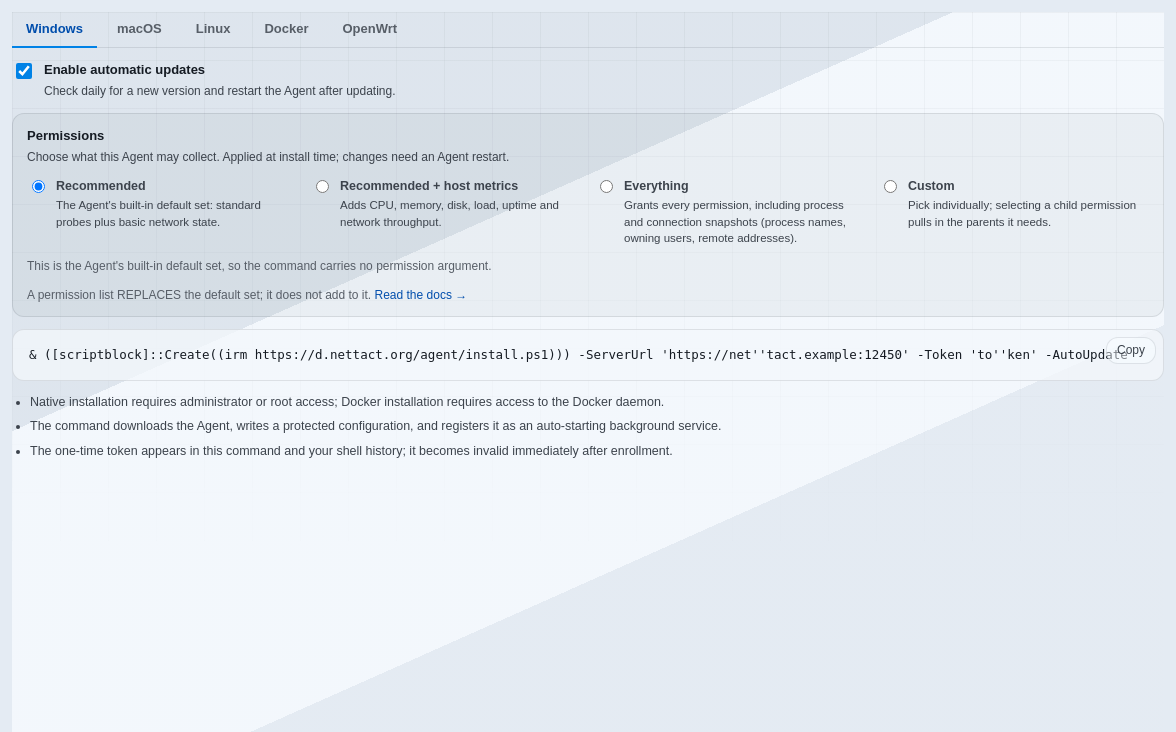
Test case: EnrollExamples permission picker › flags permissions the selected platform cannot run
The width and height of the screenshot is (1176, 732).
Click the 3rd radio button: (606, 186) x1=600 y1=180 x2=613 y2=193
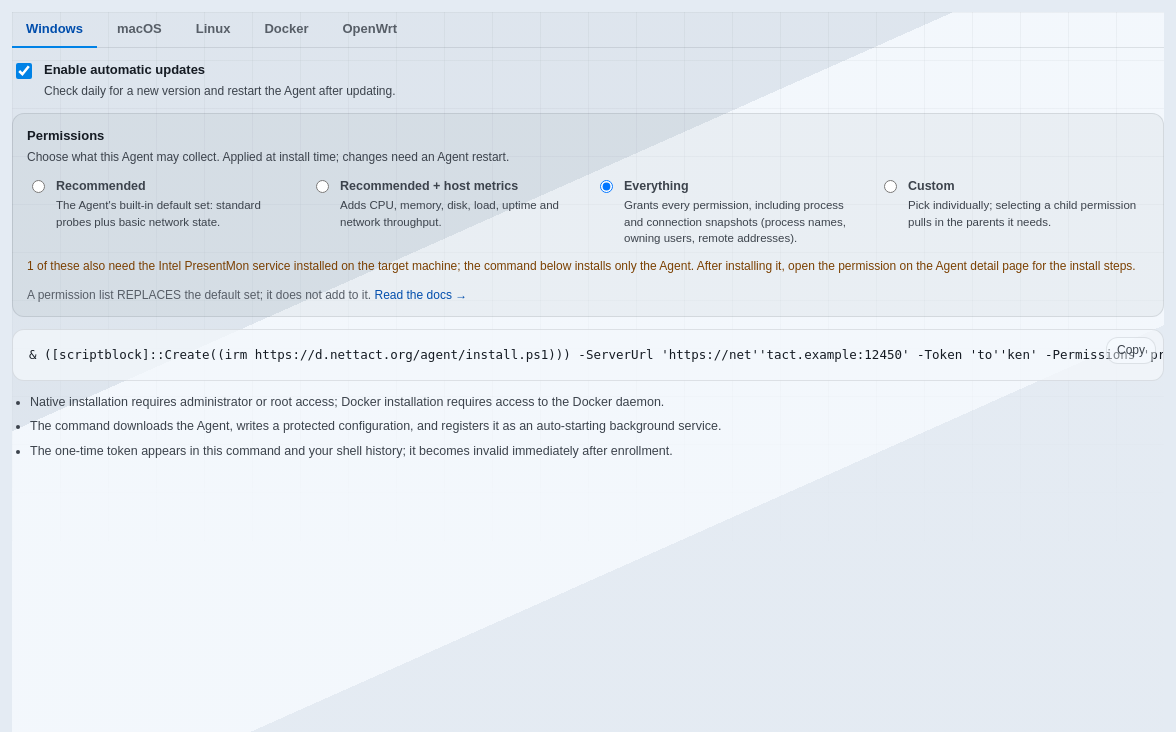
Check: the text "cannot be enabled on this platform" is not shown
Click the tab with class "tab" showing "macOS": (139, 30) x1=103 y1=12 x2=176 y2=48
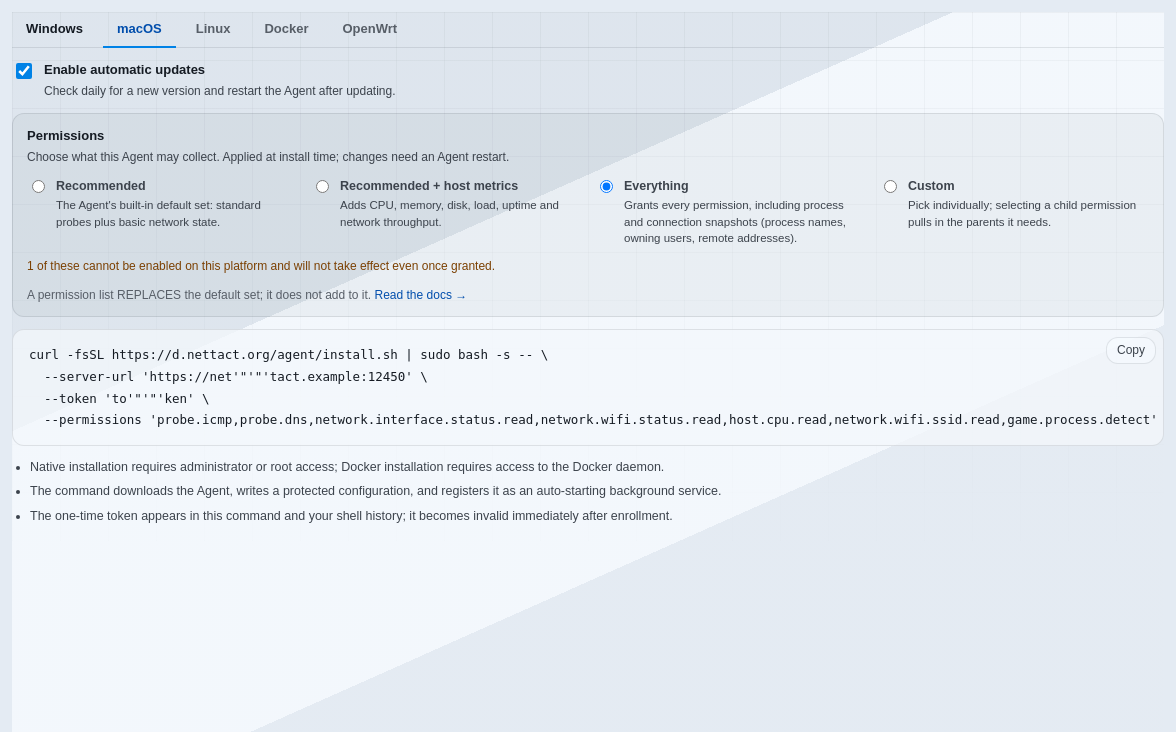
Check: the text "cannot be enabled on this platform" is shown, box x1=27 y1=259 x2=495 y2=273
